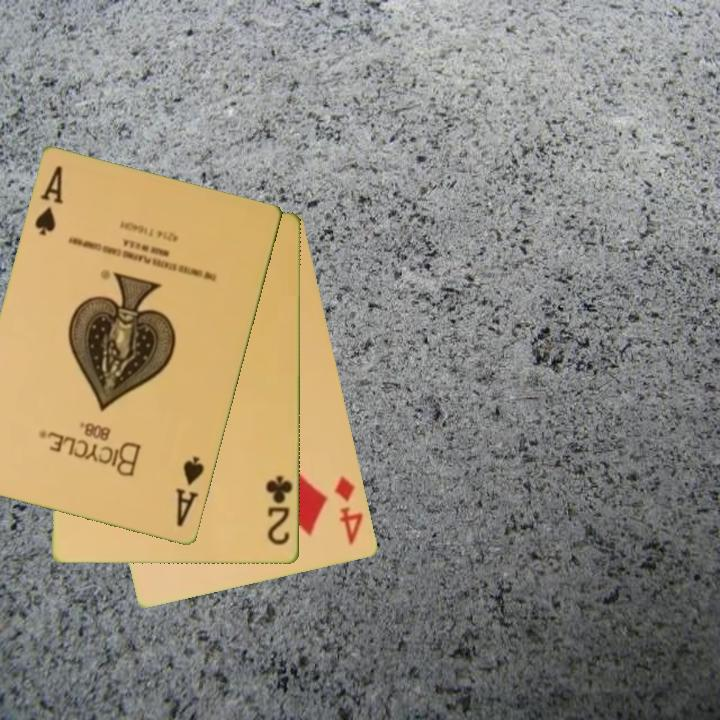2c: (263, 472, 296, 549)
4d: (331, 472, 367, 549)
As: (172, 453, 208, 530), (31, 162, 67, 239)
